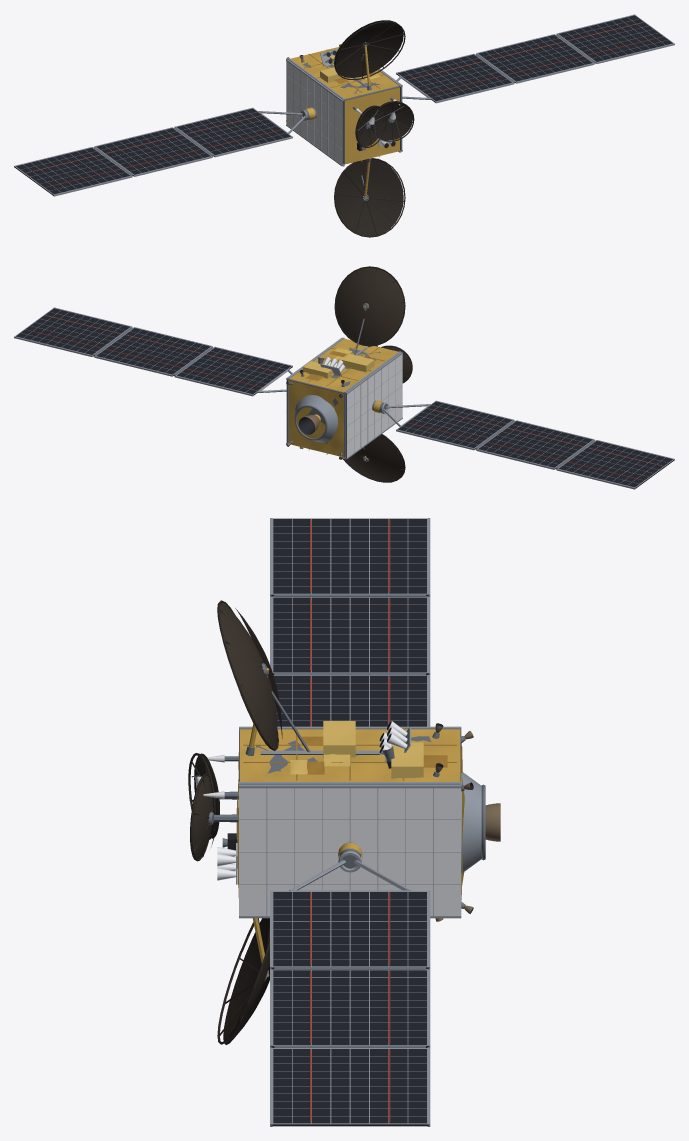
File: bus-i-3k.glb
The picture shows the model from 3 angles, top to bottom: view 1: azimuth 30°, elevation 25°; view 2: azimuth 150°, elevation 25°; view 3: azimuth 270°, elevation 25°; orthographic projection. The views are drawn at different scales.
Visible parts, largest first — view 1: body, solar-panel, foil; view 2: body, solar-panel, foil; view 3: solar-panel, body, foil.
Part boxes in pixels (box(x1,y1,x2,y2)): body: box(14, 14, 674, 237); solar-panel: box(16, 15, 672, 194); foil: box(290, 45, 399, 197); body: box(14, 266, 674, 489); solar-panel: box(16, 308, 672, 487); foil: box(289, 306, 398, 460); solar-panel: box(273, 519, 426, 1123); body: box(188, 518, 500, 1126); foil: box(236, 668, 464, 976).
Bounding box in the file's own units: 20 × 6.61 × 4.36.
